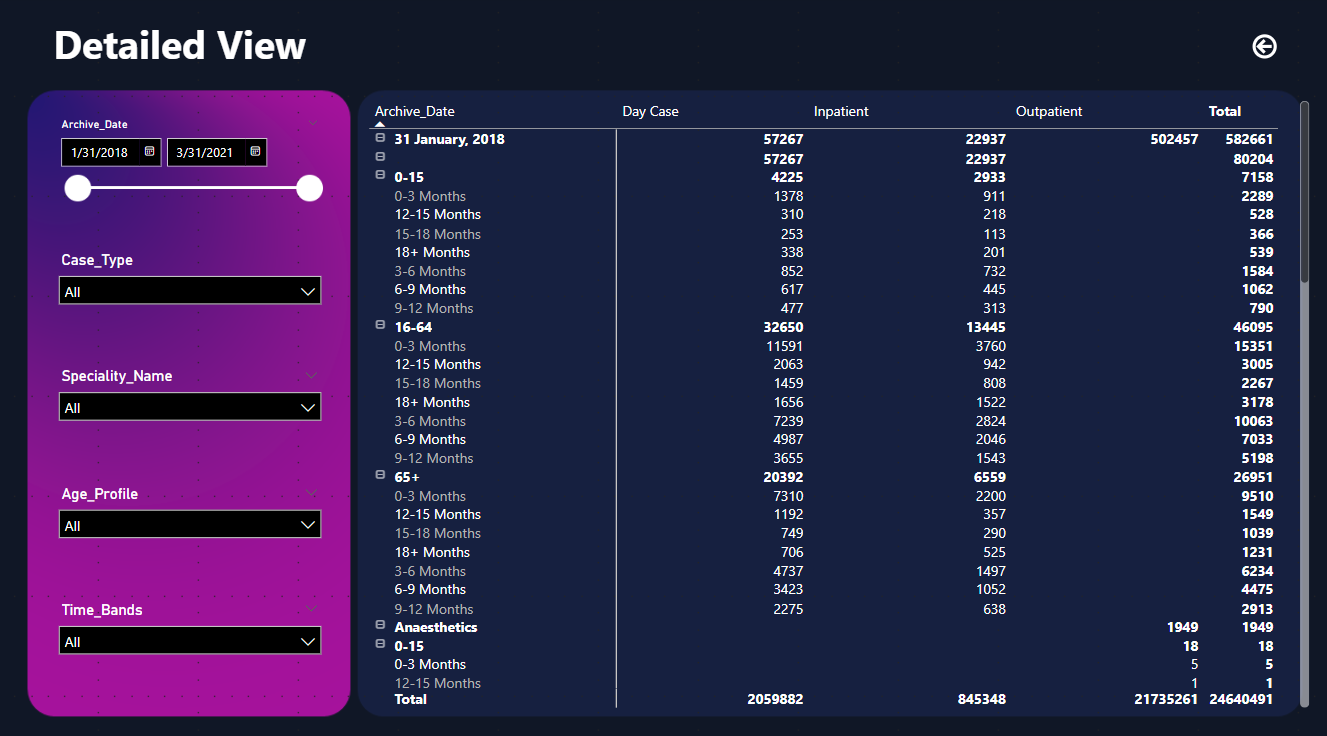

What the dashboard file says about the page in this screenshot:
{"tool":"powerbi","page":{"name":"Detail","canvas":[1280,720],"ordinal":1},"visuals":[{"type":"slicer","fields":{"Values":["All_Data.Case_Type"]},"box":[48,240,272,96],"z":0},{"type":"slicer","fields":{"Values":["All_Data.Speciality_Name"]},"box":[48,352,272,96],"z":1000},{"type":"slicer","fields":{"Values":["All_Data.Archive_Date"]},"box":[48,112,272,112],"z":2000},{"type":"textbox","box":[48,16,288,64],"z":3000},{"type":"slicer","fields":{"Values":["All_Data.Age_Profile"]},"box":[48,464,272,96],"z":4000},{"type":"slicer","fields":{"Values":["All_Data.Time_Bands"]},"box":[48,576,272,96],"z":5000},{"type":"pivotTable","fields":{"Values":["Sum(All_Data.Total)"],"Rows":["All_Data.Archive_Date","All_Data.Speciality_Name","All_Data.Age_Profile","All_Data.Time_Bands"],"Columns":["All_Data.Case_Type"]},"box":[352,96,912,592],"z":6000},{"type":"actionButton","box":[1200,32,32,32],"z":7000}]}

Visuals, with their boxes in screenshot pixels (x1, y1, x2, y2), scaled from the page's 1280x720 canvas onto the 1327x736 screenshot:
slicer - All_Data.Case_Type: crop(50, 245, 332, 343)
slicer - All_Data.Speciality_Name: crop(50, 360, 332, 458)
slicer - All_Data.Archive_Date: crop(50, 114, 332, 229)
textbox: crop(50, 16, 348, 82)
slicer - All_Data.Age_Profile: crop(50, 474, 332, 572)
slicer - All_Data.Time_Bands: crop(50, 589, 332, 687)
pivotTable - Sum(All_Data.Total) x All_Data.Archive_Date: crop(365, 98, 1310, 703)
actionButton: crop(1244, 33, 1277, 65)
